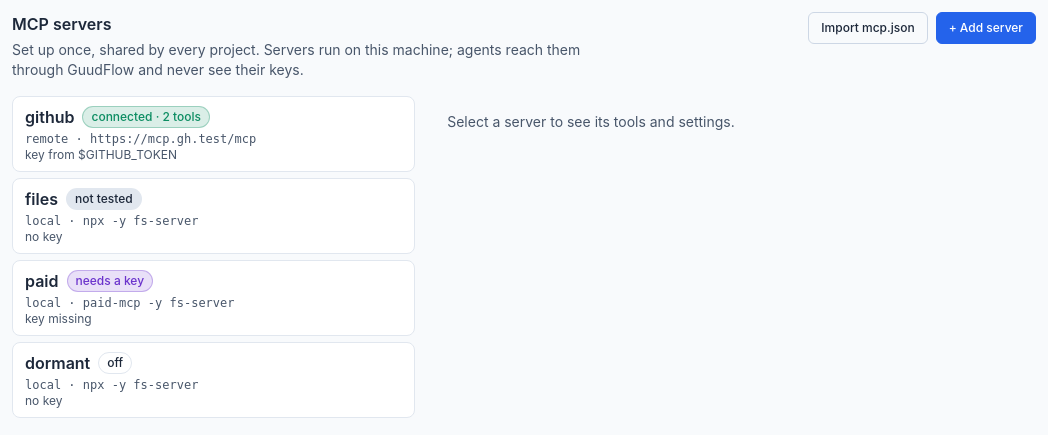
Test: McpSettings › sets a key and never shows it afterwards
Click the button with test id "mcp-row-paid". click: (214, 298)
box: [12,260,415,336]
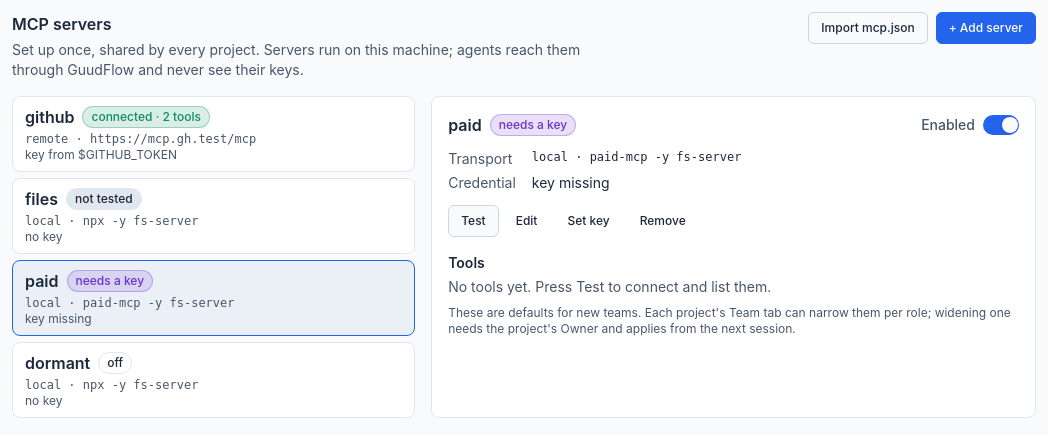
Click the button "Set key". click: (589, 221)
box: [554,205,623,237]
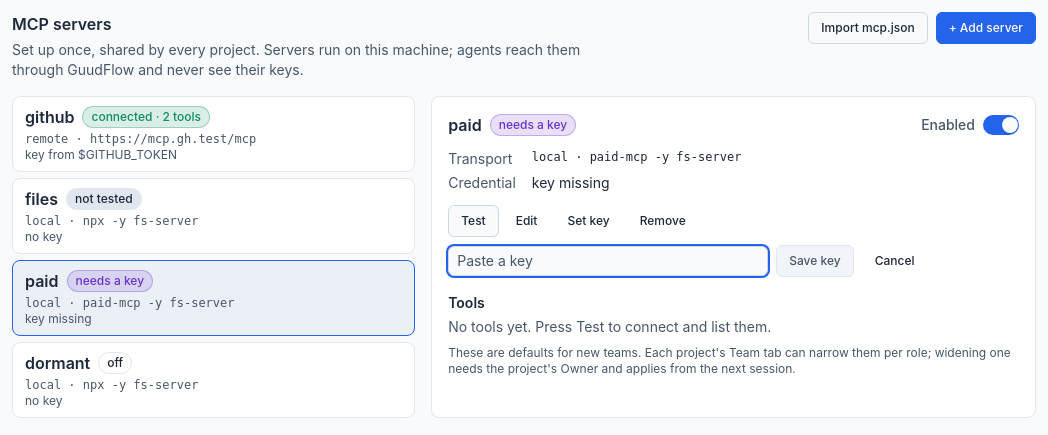
Type "hunter2-secret" into the password field named "Key for paid". click: (608, 261)
box: [448,246,768,276]
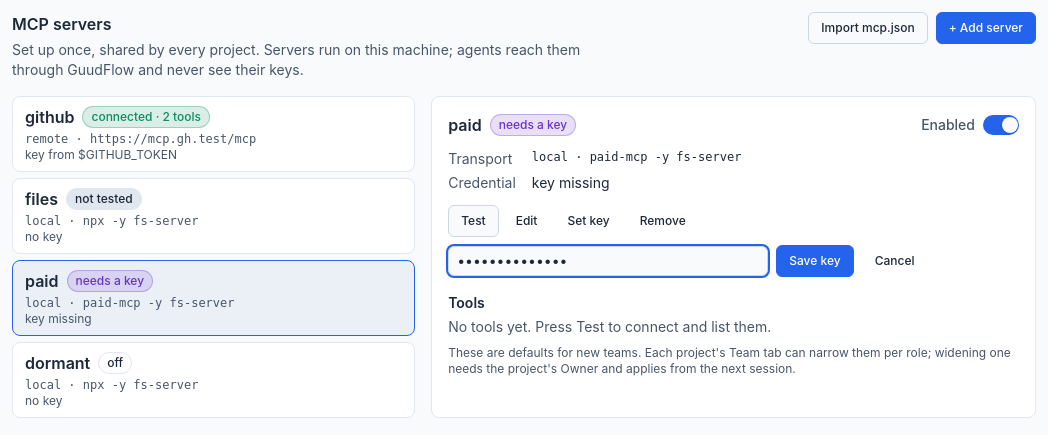
Click the button "Save key". click: (815, 261)
box: [776,245,854,277]
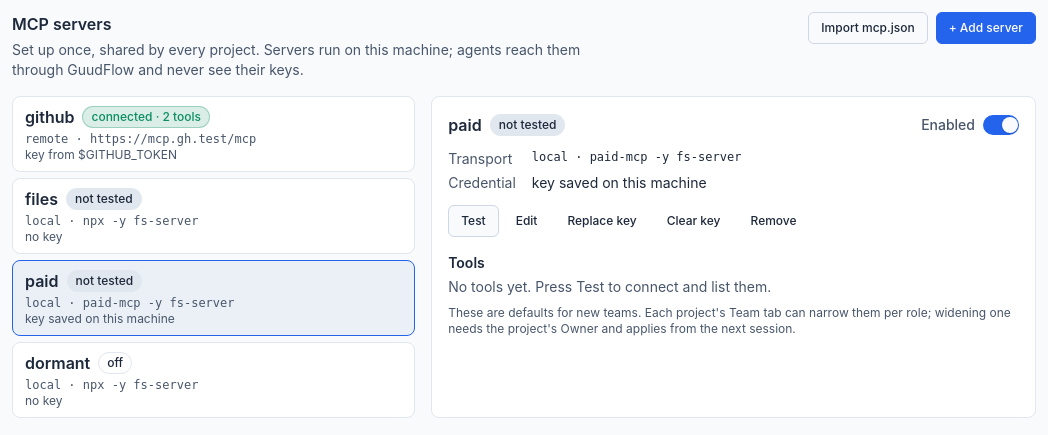
expect the text "key saved on this machine" next to "Credential" is shown: met, box [532,174,707,191]
expect the button "Clear key" is shown: met, box [654,205,734,237]
